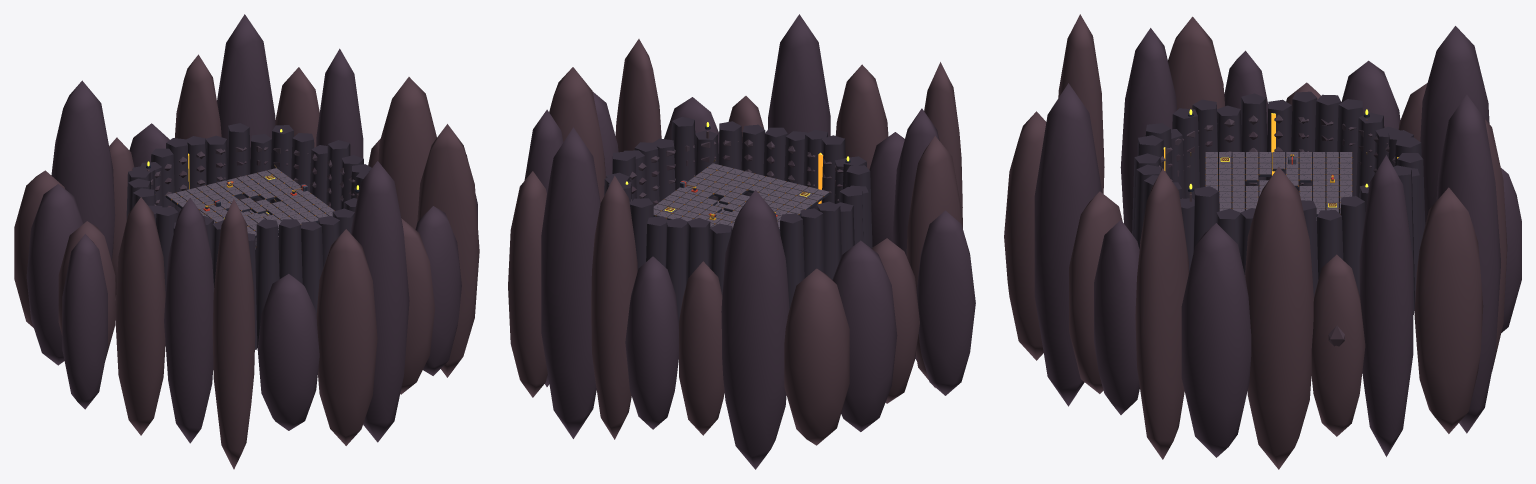
The model's file is volcano-assembled.glb.
The picture shows the model from 3 angles, left to right: view 1: azimuth 30°, elevation 25°; view 2: azimuth 150°, elevation 25°; view 3: azimuth 270°, elevation 25°; orthographic projection. The views are drawn at different scales.
Parts seen in each view (by area): view 1: volcano_environment; view 2: volcano_environment; view 3: volcano_environment.
Boxes of the visible parts, x1=… form: volcano_environment: x1=14, y1=14, x2=479, y2=469; volcano_environment: x1=508, y1=14, x2=975, y2=469; volcano_environment: x1=1004, y1=14, x2=1521, y2=469.
Size of the model in its own units: 93.18 by 65.57 by 90.66.
